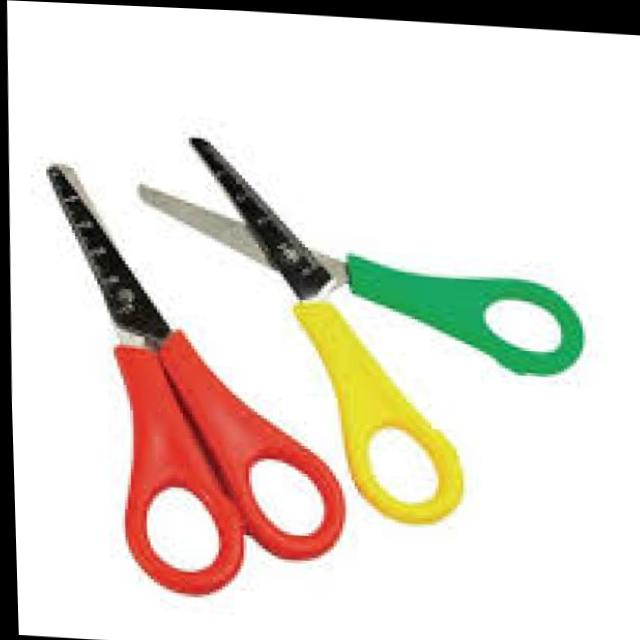scissor: (124, 128, 589, 528), (33, 158, 352, 602)
